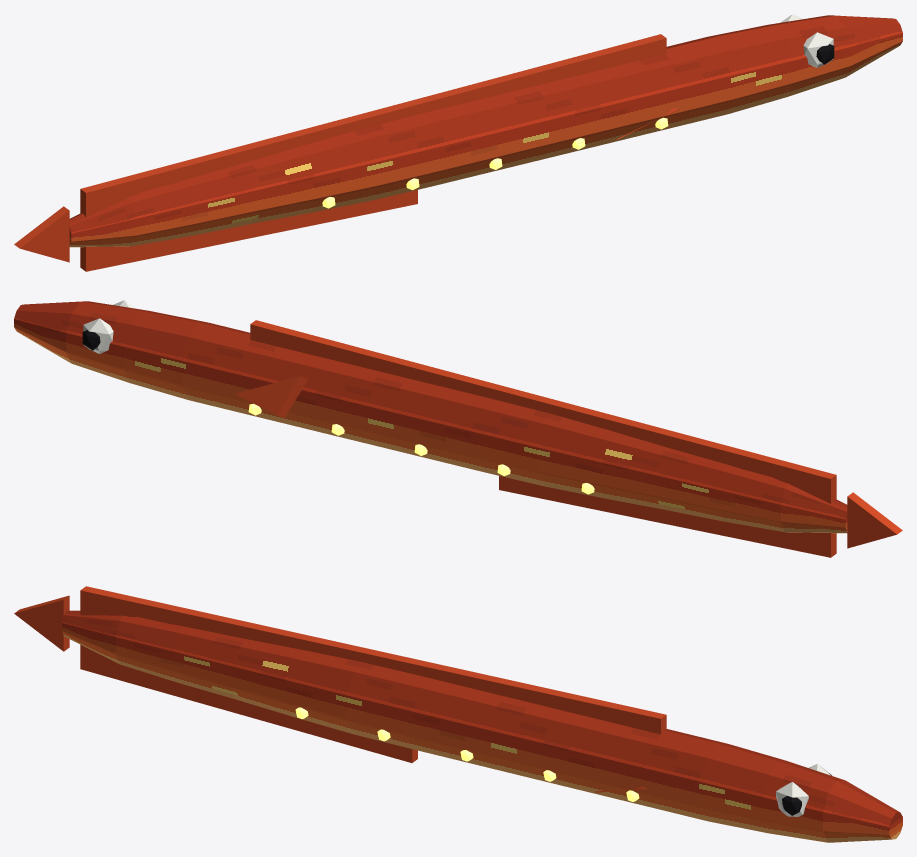
The model's file is the_ember_eel.glb.
3 renders of one model, top to bottom at view 1: azimuth 30°, elevation 25°; view 2: azimuth 150°, elevation 25°; view 3: azimuth 330°, elevation 25°, orthographic.
Visible parts, largest first — view 1: fish_the_ember_eel; view 2: fish_the_ember_eel; view 3: fish_the_ember_eel.
Part boxes in pixels (x1,y1,x2,y2): fish_the_ember_eel: (14, 14, 902, 271); fish_the_ember_eel: (14, 300, 902, 557); fish_the_ember_eel: (14, 586, 902, 842).
Size of the model in its own units: 1.06 by 0.121 by 0.1047.
Materials: 5 (1 with a texture image).
